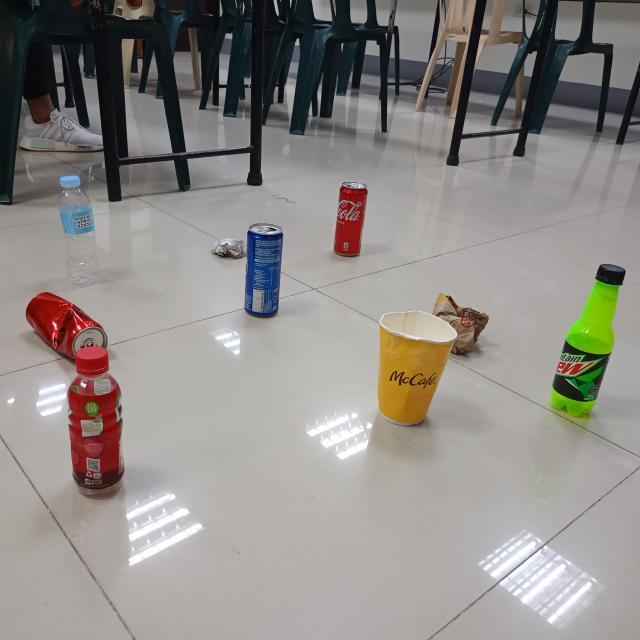recyclable waste: (544, 257, 630, 421), (371, 304, 462, 432), (63, 340, 131, 503), (22, 286, 112, 366), (55, 170, 104, 288), (238, 216, 288, 322), (428, 288, 494, 359), (329, 177, 372, 261), (207, 233, 251, 263)
